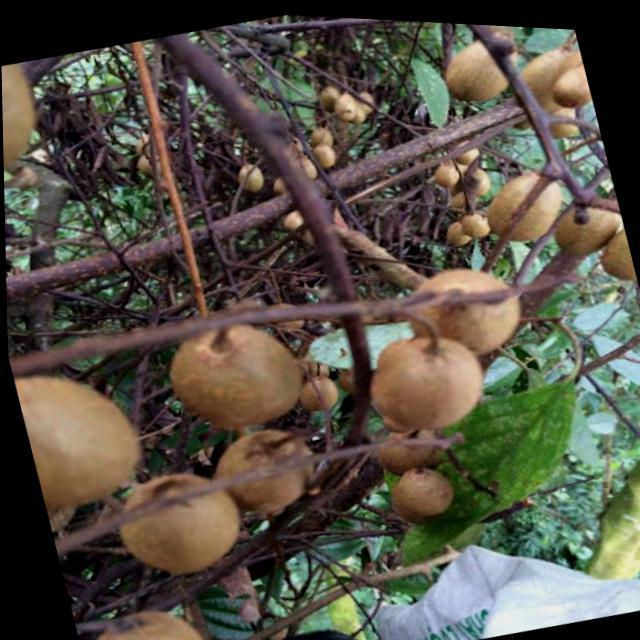kiwi: (11, 351, 149, 516), (159, 307, 304, 440), (106, 460, 247, 584), (357, 322, 489, 439), (397, 250, 525, 364), (203, 415, 322, 523), (502, 34, 594, 122), (479, 158, 566, 245), (438, 25, 523, 103), (72, 595, 215, 640), (546, 185, 626, 257), (2, 62, 47, 181), (389, 455, 457, 520), (593, 225, 636, 280), (546, 55, 592, 105), (447, 131, 482, 164), (457, 204, 490, 237), (233, 159, 265, 192), (458, 162, 491, 193), (440, 213, 473, 244), (308, 136, 336, 168), (330, 87, 357, 120), (430, 157, 458, 184)
